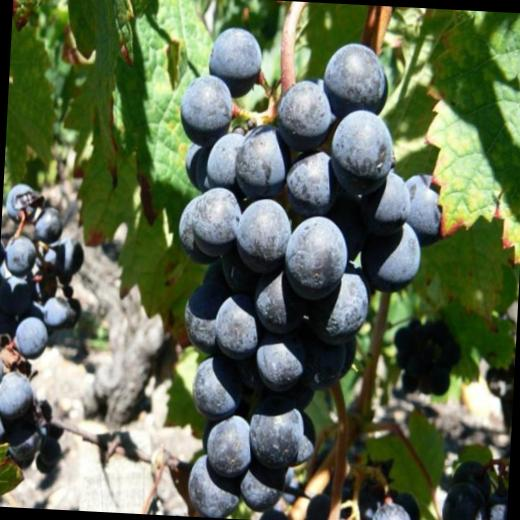Orange: (159, 24, 452, 520), (0, 183, 89, 475), (305, 454, 424, 520), (390, 317, 462, 398), (450, 461, 494, 502), (442, 483, 485, 520), (484, 488, 508, 520)
